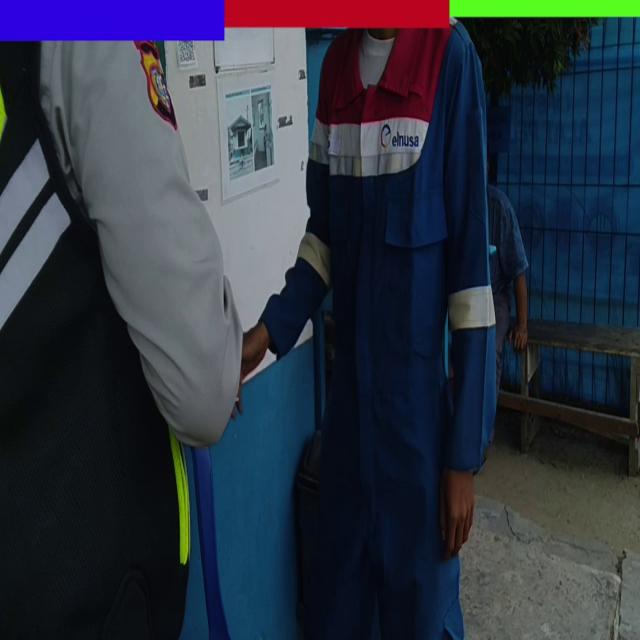No Glove: (442, 478, 474, 558), (238, 322, 268, 376)
No Overall Suit: (0, 39, 238, 640)
Overall Suit: (261, 28, 496, 640)
